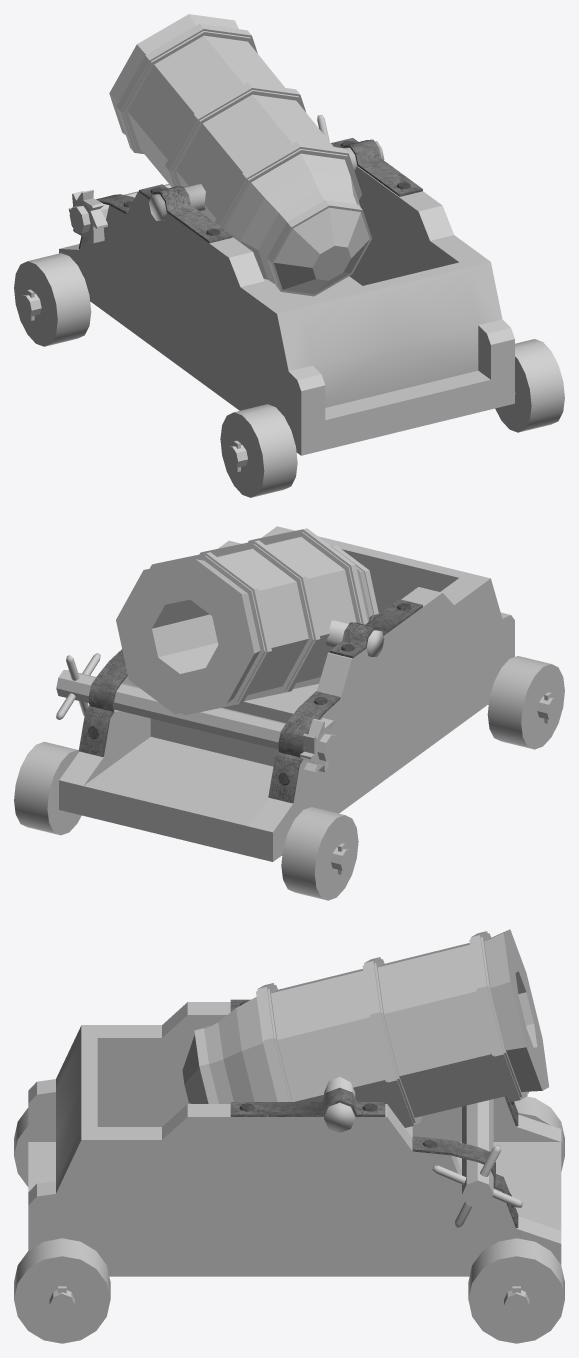
File: MortireLvl1.fbx
3 renders of one model, top to bottom at view 1: azimuth 30°, elevation 25°; view 2: azimuth 150°, elevation 25°; view 3: azimuth 270°, elevation 25°, orthographic. The views are drawn at different scales.
Visible parts, largest first — view 1: Cube.012, Cylinder, Cube.016, Cube.014, Cylinder.011, Cylinder.013, Cylinder.008; view 2: Cube.012, Cylinder, Cube.014, Cylinder.013, Cube.016, Cylinder.014, Cylinder.011, Cylinder.008, Cylinder.017; view 3: Cube.012, Cylinder, Cube.014, Cube.016, Cylinder.013, Cylinder.011, Cylinder.014, Cylinder.008, Cylinder.016, Cube.013, Cube.015, Cylinder.015.
Part boxes in pixels (x1=…): Cube.012: x1=59, y1=166, x2=514, y2=455; Cylinder: x1=109, y1=14, x2=372, y2=296; Cube.016: x1=220, y1=339, x2=564, y2=497; Cube.014: x1=14, y1=253, x2=91, y2=346; Cylinder.011: x1=139, y1=138, x2=422, y2=243; Cylinder.013: x1=69, y1=184, x2=171, y2=245; Cylinder.008: x1=149, y1=141, x2=384, y2=220; Cube.012: x1=59, y1=526, x2=514, y2=861; Cylinder: x1=116, y1=528, x2=378, y2=715; Cube.014: x1=14, y1=741, x2=358, y2=900; Cylinder.013: x1=56, y1=670, x2=338, y2=772; Cube.016: x1=487, y1=656, x2=564, y2=749; Cylinder.014: x1=78, y1=649, x2=340, y2=803; Cylinder.011: x1=329, y1=599, x2=422, y2=658; Cylinder.008: x1=326, y1=620, x2=384, y2=656; Cylinder.017: x1=88, y1=603, x2=410, y2=785; Cube.012: x1=28, y1=1002, x2=561, y2=1276; Cylinder: x1=182, y1=929, x2=548, y2=1127; Cube.014: x1=468, y1=1096, x2=564, y2=1343; Cube.016: x1=14, y1=1108, x2=110, y2=1343; Cylinder.013: x1=462, y1=1099, x2=493, y2=1208; Cylinder.011: x1=230, y1=999, x2=385, y2=1116; Cylinder.014: x1=412, y1=1096, x2=518, y2=1228; Cylinder.008: x1=324, y1=1077, x2=355, y2=1132; Cylinder.016: x1=432, y1=1165, x2=523, y2=1207; Cube.013: x1=504, y1=1290, x2=529, y2=1316; Cube.015: x1=49, y1=1290, x2=74, y2=1316; Cylinder.015: x1=454, y1=1145, x2=500, y2=1228.
Size of the model in its own units: 111 by 98.24 by 149.
